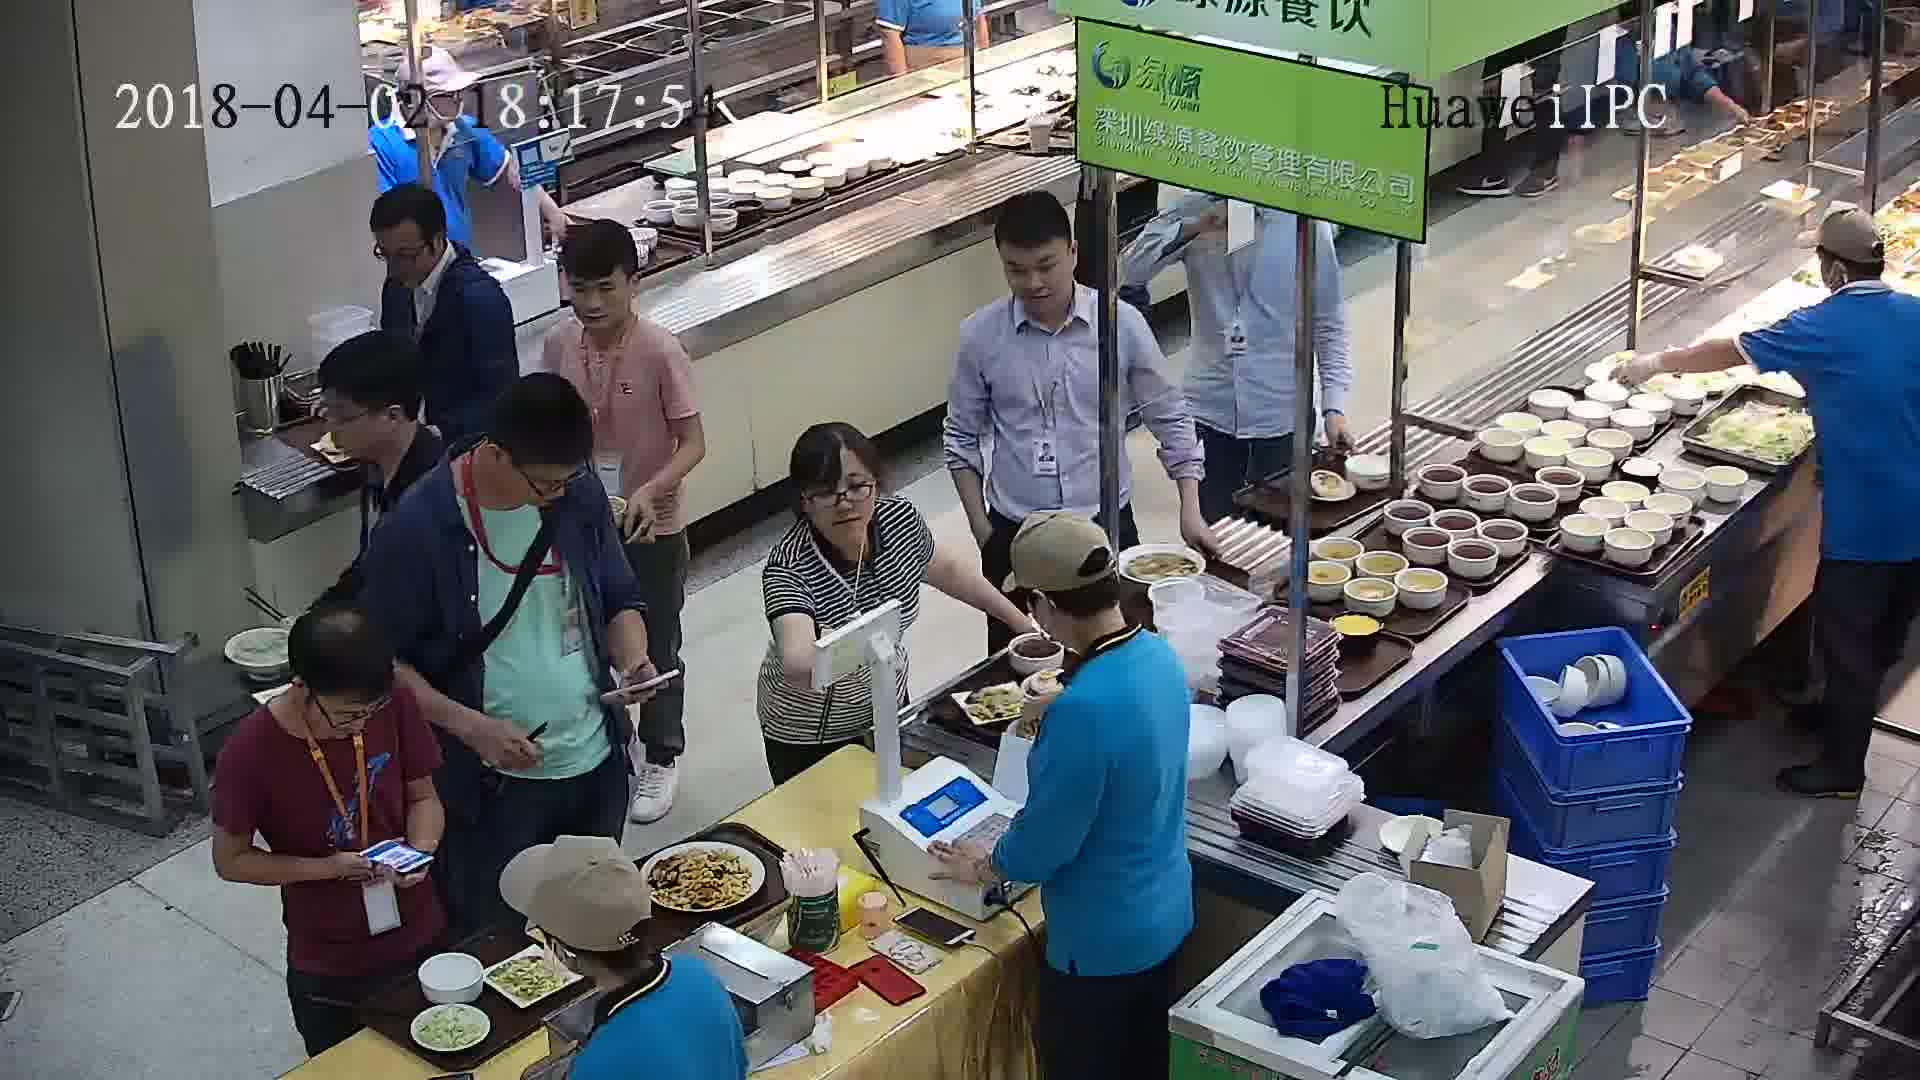face: (795, 452, 889, 546), (313, 378, 397, 462), (996, 234, 1075, 313), (370, 217, 443, 290), (567, 264, 635, 332), (313, 680, 376, 743), (516, 452, 571, 507)
person: (490, 834, 740, 1052), (372, 368, 616, 578), (1005, 510, 1192, 755), (218, 600, 424, 785), (952, 189, 1150, 369), (305, 329, 471, 543), (755, 416, 934, 600), (542, 215, 686, 383), (365, 180, 507, 328), (1773, 210, 1919, 349), (392, 51, 509, 171)
